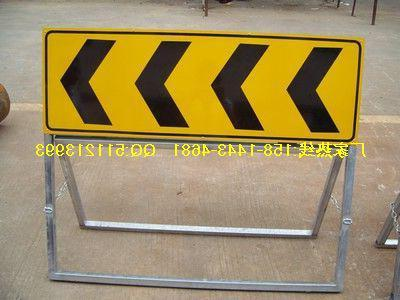sign: (43, 25, 365, 143)
